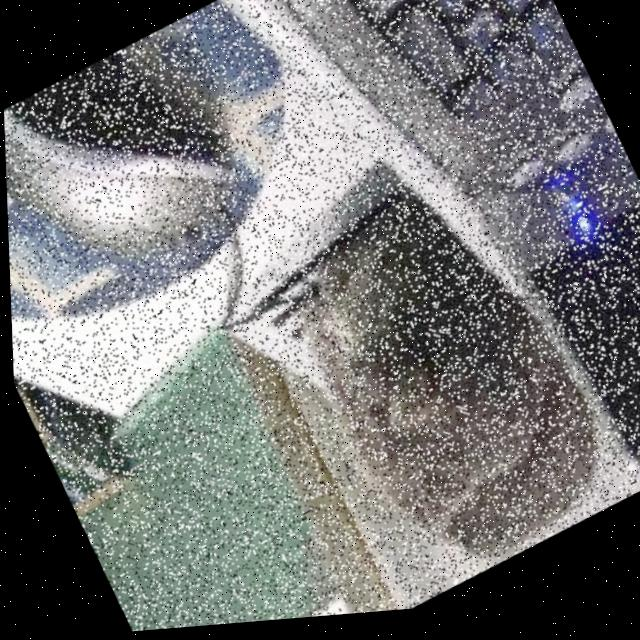mause: (0, 0, 315, 337)
